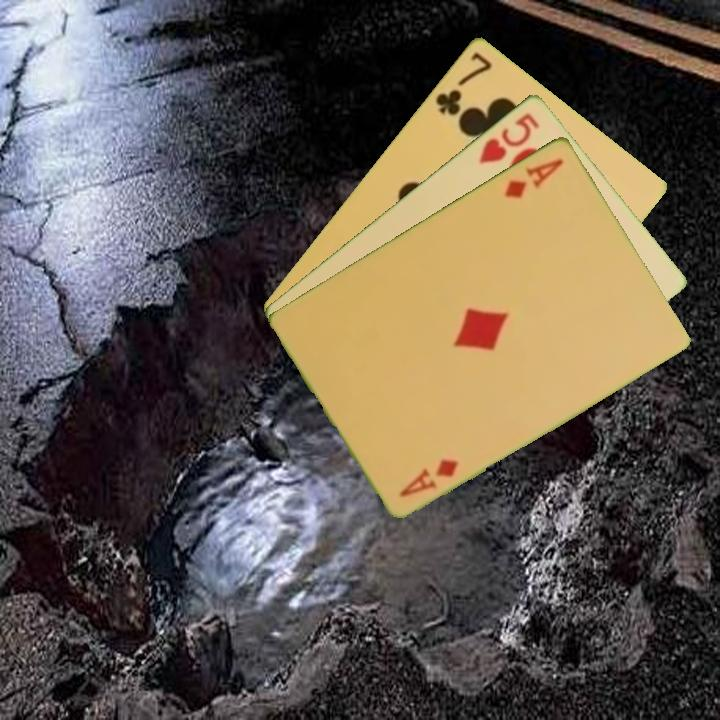5h: (475, 108, 543, 167)
7c: (431, 48, 495, 118)
Ad: (395, 454, 462, 500), (501, 154, 566, 201)
